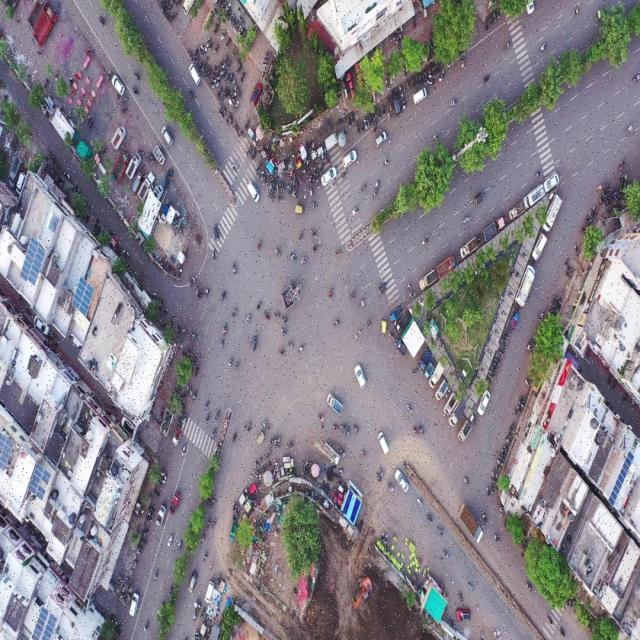3W: (471, 191, 485, 208), (211, 221, 220, 243), (249, 334, 259, 353), (376, 281, 387, 297), (379, 317, 386, 341), (256, 431, 265, 448), (340, 422, 350, 436), (293, 205, 304, 215)
Cars: (533, 232, 548, 262), (353, 363, 366, 394), (394, 467, 409, 492), (245, 181, 261, 204), (160, 124, 175, 146), (188, 62, 201, 87), (456, 605, 473, 624), (321, 167, 337, 187), (478, 390, 491, 414), (249, 82, 262, 106), (130, 591, 141, 619), (342, 149, 358, 168), (110, 75, 126, 94), (187, 571, 199, 596), (372, 131, 388, 149), (542, 175, 558, 193), (413, 87, 427, 106), (378, 432, 389, 456), (391, 89, 400, 117), (205, 580, 214, 603)
LCV: (515, 265, 535, 306), (544, 195, 563, 231), (523, 183, 544, 210), (137, 172, 154, 203), (436, 255, 455, 280), (449, 401, 465, 430), (326, 391, 345, 414), (155, 502, 168, 532), (429, 363, 444, 389), (457, 419, 473, 441), (169, 491, 182, 518), (460, 238, 477, 258), (419, 270, 436, 290), (444, 392, 457, 418), (127, 153, 140, 178), (130, 169, 143, 193), (112, 126, 126, 147), (508, 202, 525, 219), (435, 380, 448, 401), (394, 313, 407, 334), (151, 146, 165, 164), (508, 313, 520, 333), (394, 339, 407, 357), (325, 132, 338, 150), (172, 425, 182, 447), (389, 305, 402, 321), (420, 352, 431, 370), (424, 362, 434, 380)
M2W: (96, 8, 107, 30), (203, 411, 212, 428), (480, 511, 490, 525), (272, 246, 282, 259), (623, 124, 633, 137), (349, 288, 357, 304), (262, 308, 271, 322), (210, 246, 217, 264), (350, 206, 361, 217), (310, 245, 320, 257), (457, 590, 465, 605), (309, 228, 318, 241), (359, 449, 368, 462), (449, 96, 458, 109), (539, 40, 548, 53), (288, 338, 295, 354), (179, 444, 187, 458), (153, 566, 160, 582), (430, 133, 441, 143), (297, 342, 306, 354), (278, 348, 287, 360), (288, 251, 297, 263), (386, 483, 395, 495), (418, 421, 424, 439), (425, 514, 434, 526), (421, 236, 430, 248), (462, 214, 471, 226), (188, 276, 197, 288), (617, 158, 626, 170), (244, 311, 251, 326), (273, 309, 280, 324), (327, 287, 334, 302), (218, 338, 225, 353), (168, 583, 175, 598), (187, 88, 195, 101), (360, 182, 368, 195), (211, 426, 217, 443), (281, 314, 290, 325), (417, 499, 426, 510), (382, 157, 391, 168), (279, 325, 286, 339), (353, 421, 360, 435), (144, 618, 150, 634), (406, 404, 414, 416), (230, 161, 238, 173), (231, 305, 238, 318), (200, 532, 207, 545), (191, 389, 198, 402), (255, 301, 264, 311), (167, 535, 173, 550), (467, 581, 476, 591), (493, 534, 502, 544), (309, 201, 318, 211), (371, 188, 380, 198), (482, 75, 491, 85), (631, 73, 640, 83), (443, 549, 451, 560), (358, 297, 365, 309), (220, 289, 226, 303), (203, 399, 209, 413), (214, 409, 221, 421), (210, 495, 216, 509), (412, 426, 419, 438), (573, 7, 580, 19), (406, 280, 412, 294), (448, 617, 455, 629), (132, 72, 141, 81), (316, 413, 325, 422), (503, 40, 512, 49), (533, 170, 542, 179), (257, 238, 262, 254), (333, 319, 341, 329), (132, 86, 140, 96), (373, 180, 381, 190), (562, 258, 570, 268), (227, 356, 233, 369), (222, 323, 228, 336), (232, 262, 238, 275), (232, 430, 238, 443), (212, 516, 218, 529), (375, 471, 381, 484), (526, 580, 532, 593), (43, 76, 49, 89), (260, 419, 267, 430), (186, 384, 193, 395), (192, 608, 197, 623), (205, 286, 211, 298), (177, 539, 183, 551), (120, 103, 128, 112), (333, 423, 339, 435), (559, 628, 567, 637), (67, 77, 73, 89), (85, 115, 91, 127), (398, 86, 404, 98), (244, 118, 250, 130), (239, 72, 245, 84), (225, 36, 231, 48), (220, 29, 226, 41), (237, 25, 243, 37), (208, 39, 214, 51), (301, 256, 308, 266), (207, 515, 212, 529), (463, 476, 470, 486), (436, 528, 443, 538), (409, 290, 416, 300), (335, 248, 342, 258), (379, 466, 385, 477), (259, 170, 265, 181), (232, 47, 238, 58), (239, 14, 245, 25), (187, 48, 193, 59), (286, 186, 292, 197), (486, 486, 491, 499), (411, 368, 418, 377), (523, 380, 532, 387), (203, 550, 208, 562), (106, 70, 111, 82), (547, 615, 553, 625), (195, 365, 200, 377), (366, 318, 371, 330), (213, 23, 218, 35), (214, 43, 220, 53), (206, 36, 211, 48), (193, 47, 199, 57), (194, 353, 199, 365), (479, 630, 485, 640), (217, 86, 222, 98), (141, 530, 149, 537), (490, 478, 498, 485), (494, 466, 502, 473), (500, 344, 508, 351), (402, 98, 406, 112), (385, 79, 390, 90), (324, 154, 329, 165), (145, 156, 151, 165), (199, 47, 205, 56), (162, 471, 168, 480), (341, 170, 347, 179), (251, 150, 257, 159), (246, 146, 252, 155), (150, 151, 154, 164), (424, 71, 428, 84), (347, 116, 351, 129), (356, 124, 360, 137), (360, 121, 364, 134), (224, 52, 228, 65), (236, 87, 240, 100), (282, 180, 286, 193), (298, 176, 303, 186), (238, 63, 243, 73), (229, 14, 234, 24), (221, 85, 226, 95), (200, 609, 205, 619), (147, 511, 154, 518), (153, 491, 160, 498), (565, 272, 572, 279), (90, 117, 94, 129), (138, 149, 144, 157), (418, 73, 422, 85), (373, 122, 377, 134), (373, 106, 377, 118), (309, 185, 313, 197), (207, 68, 211, 80), (256, 163, 262, 171), (292, 175, 296, 187), (493, 11, 497, 23), (477, 232, 481, 244), (389, 332, 394, 341), (202, 62, 207, 71), (218, 60, 223, 69), (234, 361, 238, 372), (382, 105, 386, 116), (386, 96, 390, 107), (212, 64, 216, 75), (230, 72, 234, 83), (263, 176, 267, 187), (485, 20, 489, 31), (489, 16, 493, 27), (121, 96, 127, 103), (277, 196, 283, 203), (286, 181, 292, 188), (491, 471, 497, 478), (518, 401, 525, 407), (498, 350, 505, 356), (550, 307, 557, 313), (568, 266, 574, 273), (234, 19, 238, 29), (212, 79, 216, 89), (216, 77, 220, 87), (216, 69, 220, 79), (233, 80, 237, 90), (441, 70, 445, 80), (406, 79, 409, 92), (350, 112, 353, 125), (415, 75, 418, 87), (422, 72, 425, 84), (434, 64, 437, 76), (367, 117, 370, 129), (377, 109, 380, 121), (316, 171, 319, 183), (313, 171, 316, 183), (201, 44, 207, 50), (227, 60, 231, 69), (276, 182, 279, 194), (279, 181, 282, 193), (491, 489, 497, 495), (497, 461, 503, 467), (498, 455, 504, 461), (491, 366, 497, 372), (268, 195, 274, 201), (226, 86, 229, 98), (501, 449, 508, 454), (504, 439, 511, 444), (517, 405, 524, 410), (432, 67, 435, 78), (369, 114, 372, 125), (226, 73, 229, 84), (502, 335, 510, 339), (494, 358, 502, 362), (585, 217, 589, 225), (411, 78, 414, 88), (437, 63, 440, 73), (221, 65, 224, 75), (148, 507, 154, 512), (295, 181, 298, 191), (503, 339, 509, 344), (492, 361, 498, 366), (428, 66, 431, 75), (273, 183, 275, 192)
Truck: (33, 1, 56, 43), (460, 504, 482, 547), (113, 152, 129, 181)
